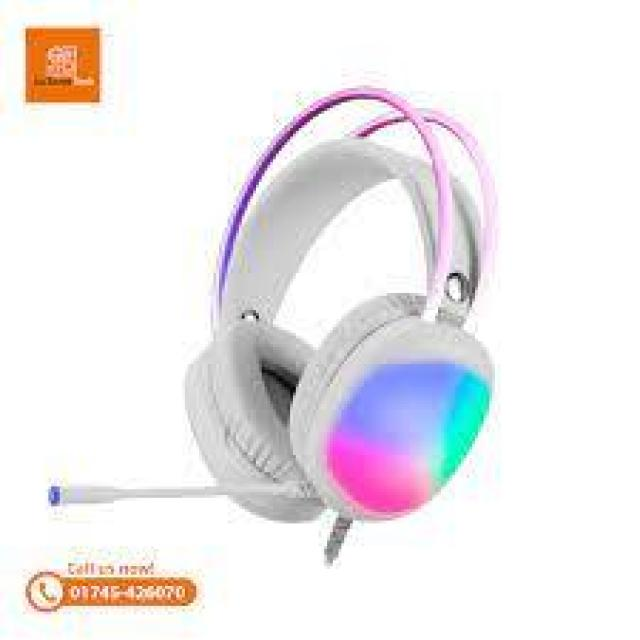headset: (197, 90, 491, 516)
